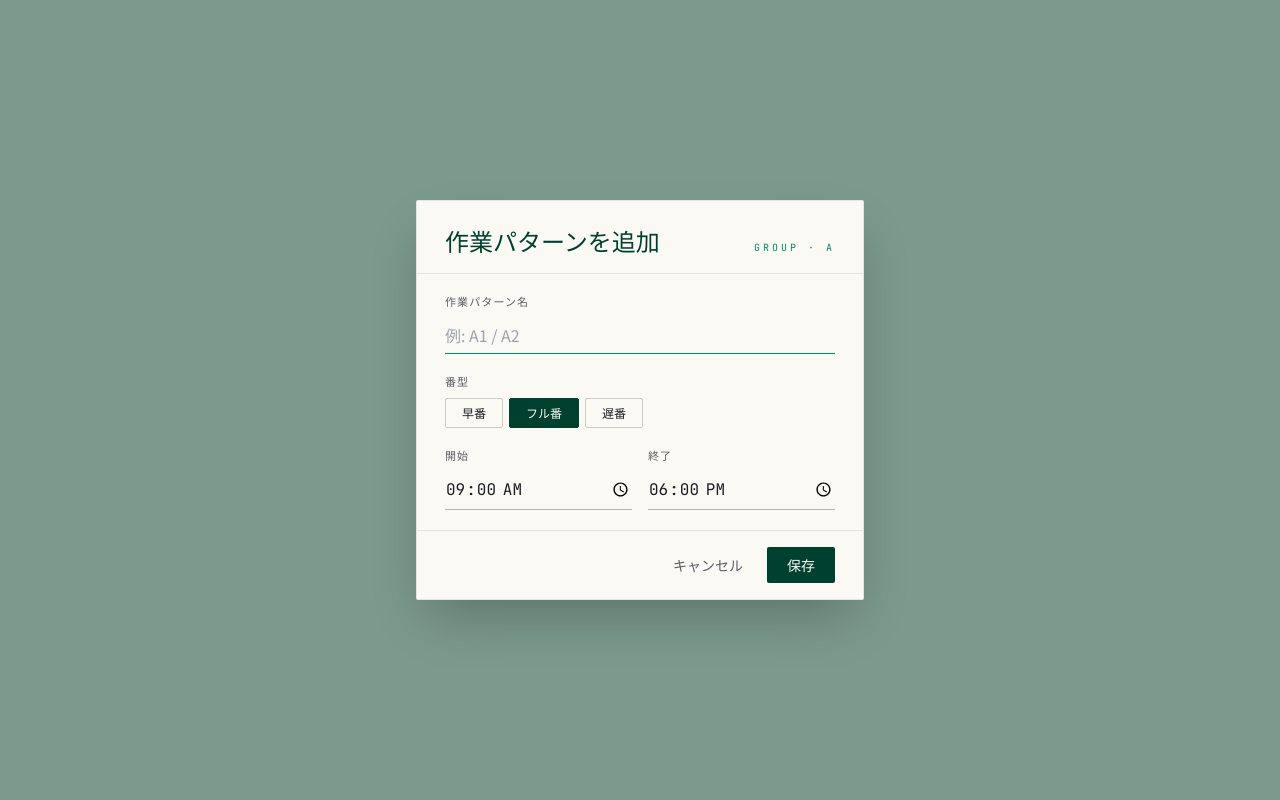
Test case: WorkPatternFormModal — error handling › shows server detail on rejection
The image size is (1280, 800).
Type "A1" into the field with placeholder "例: A1 / A2".
click(640, 335); type("A1")  # box top-left (445, 317), bottom-right (835, 354)
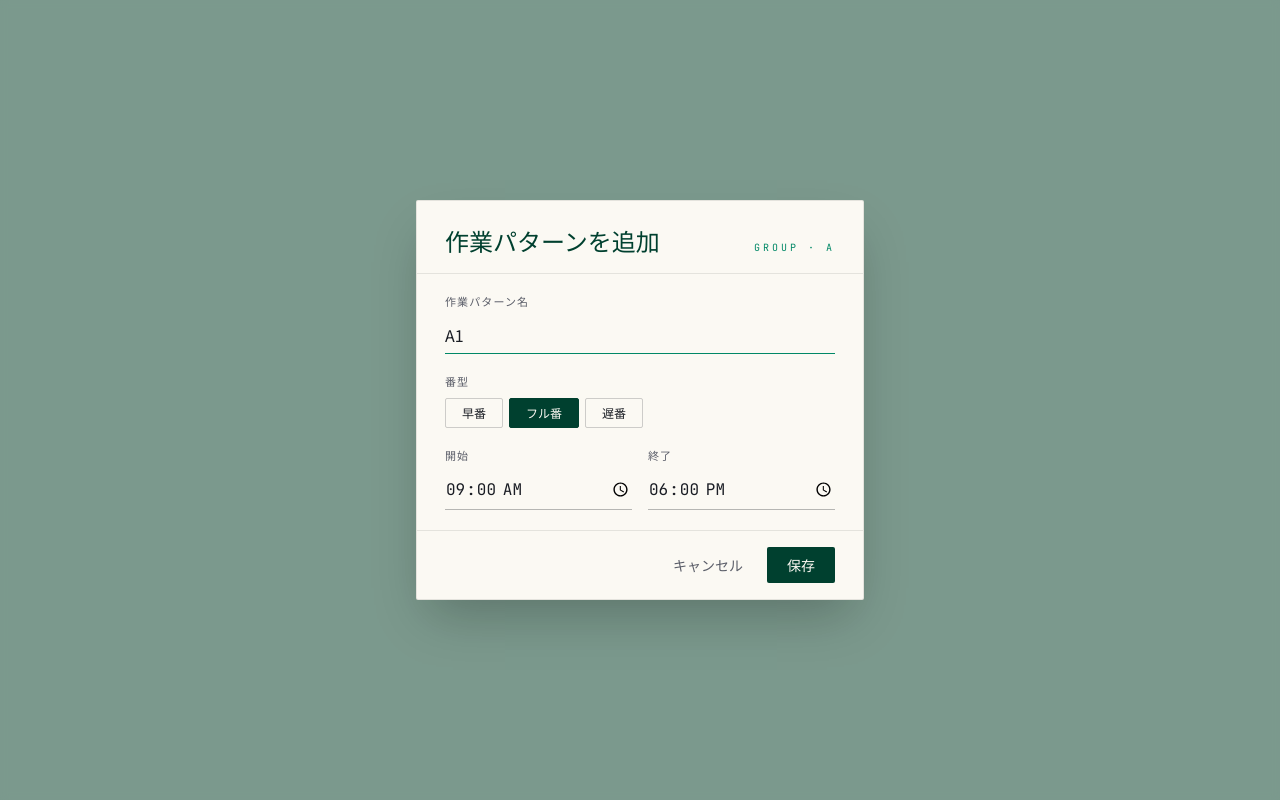
Click the button "保存".
click(801, 565)  # box top-left (767, 547), bottom-right (835, 583)
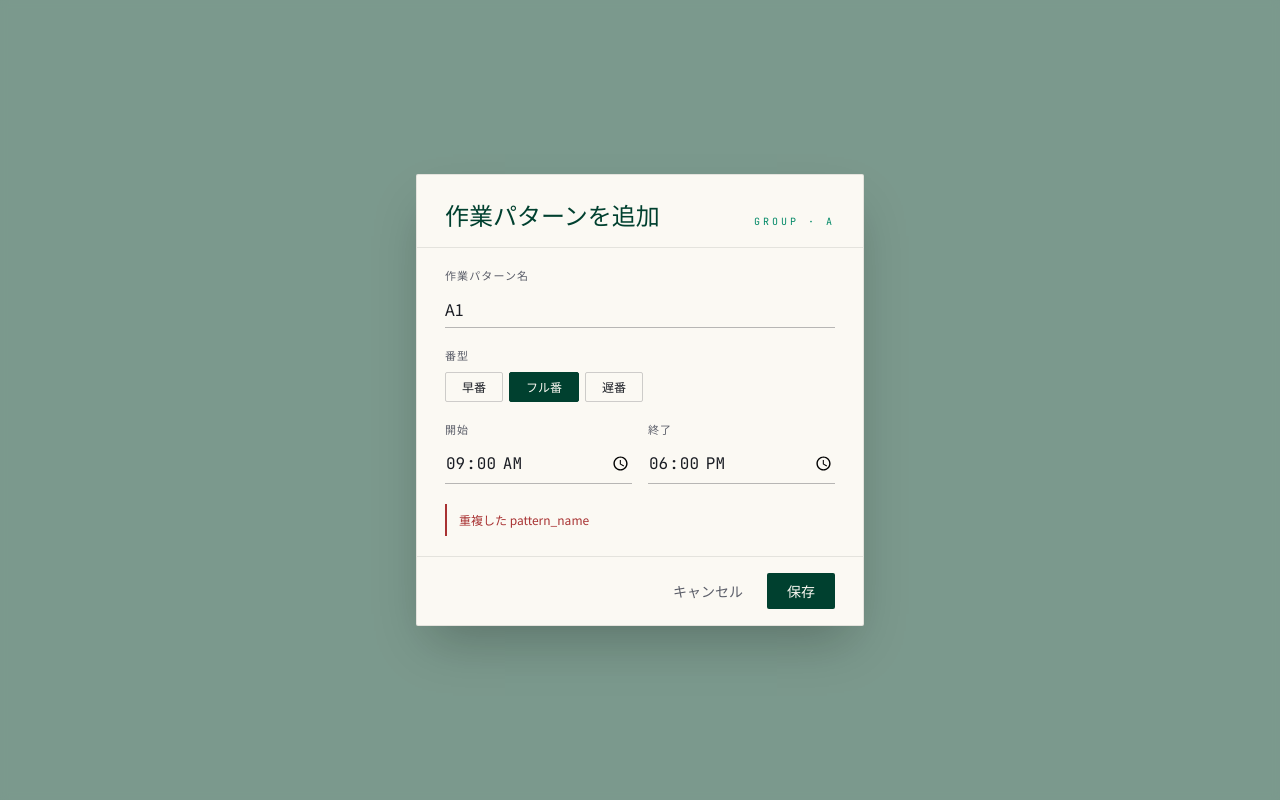
Expected: the text "重複した pattern_name" is shown, top-left (445, 504), bottom-right (835, 536)
